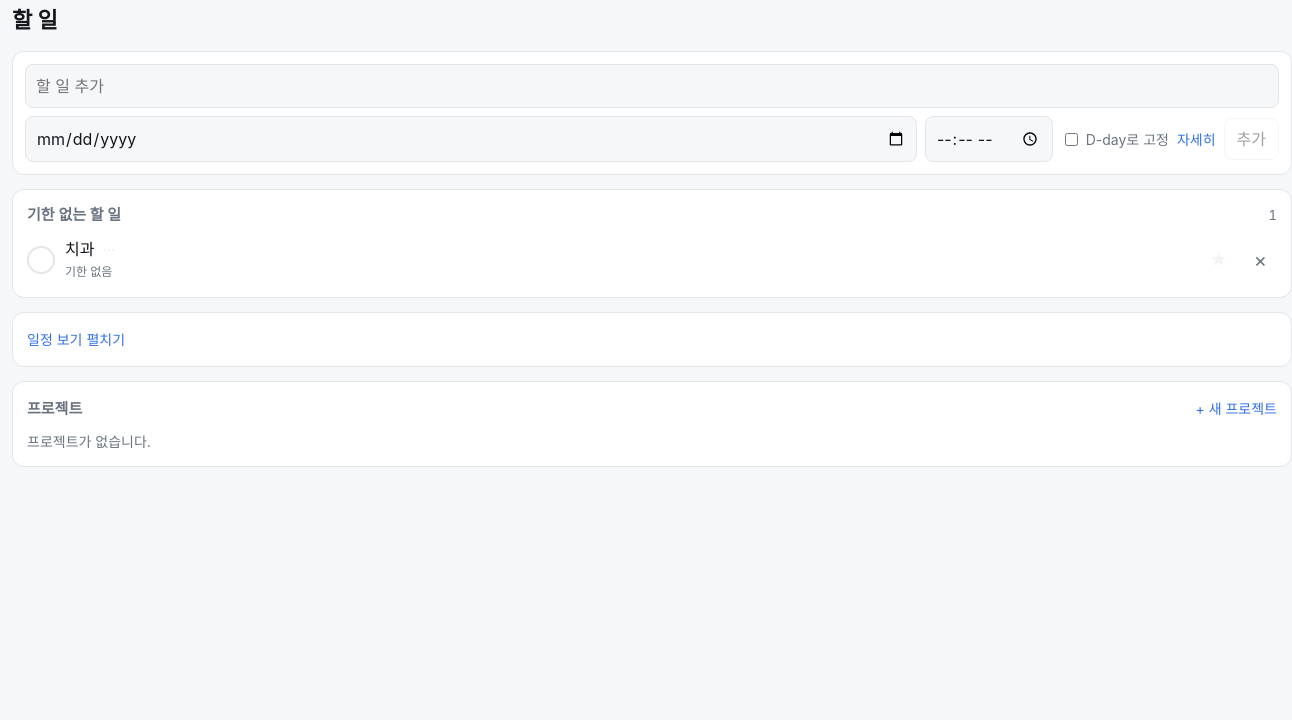
Test: 할 일 삭제 되돌리기 › 할 일을 지우면 되돌리기가 뜬다
Expected: the button "되돌리기" is not shown
Click the button named "치과 삭제" at (1260, 260), box [1244, 242, 1277, 278]
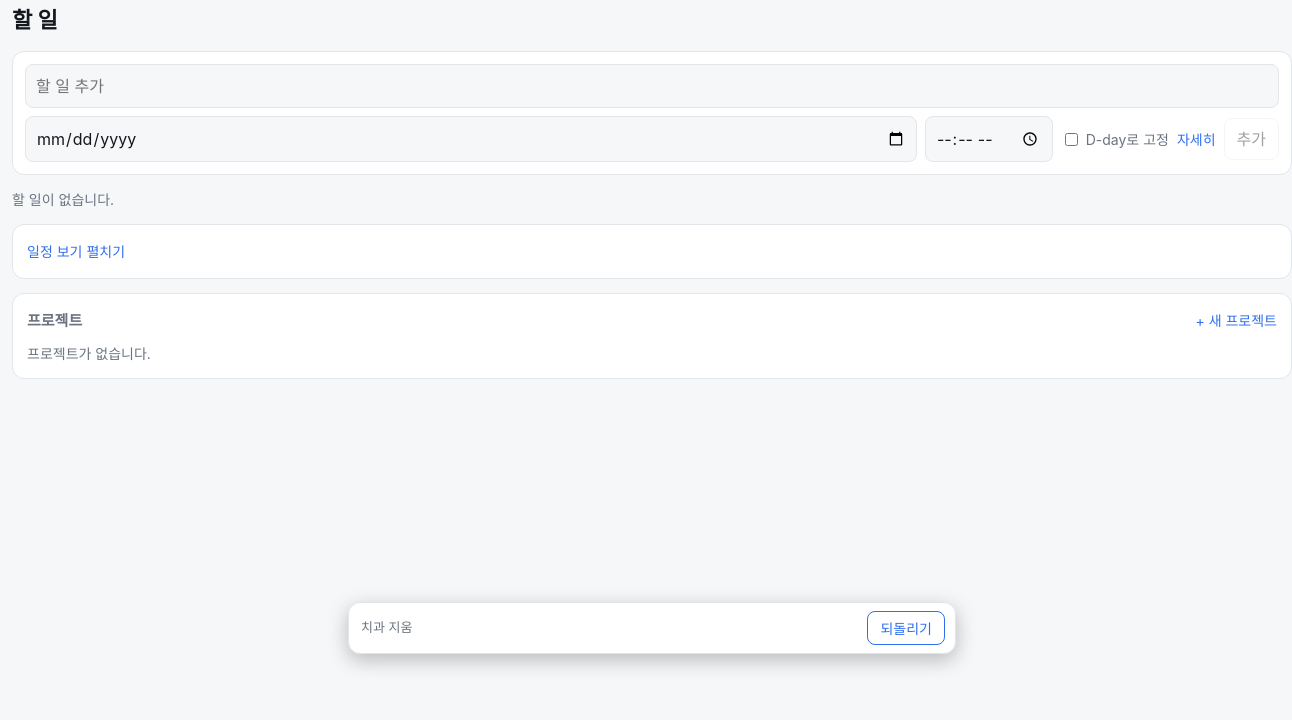
Result: the button "되돌리기" is shown at [868, 611, 945, 645]
Result: the message shows "치과" at [361, 619, 412, 635]
